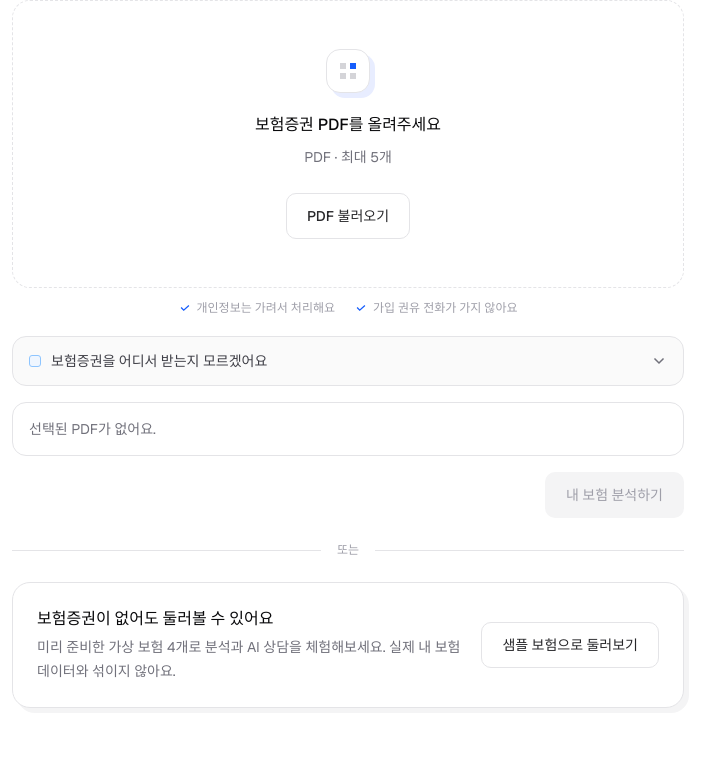
Scenario: UploadOptions › shows progress while the sample analysis is being prepared
Click the button "샘플 보험으로 둘러보기". click: point(570, 645)
box: [481,622,659,668]
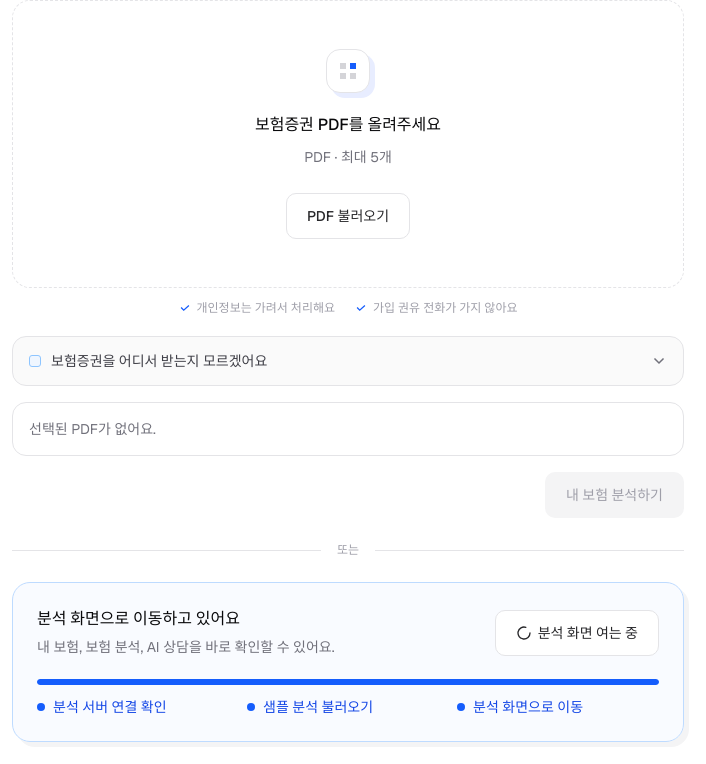
Result: the message shows "분석 서버 연결 확인" at [53,698,166,716]
